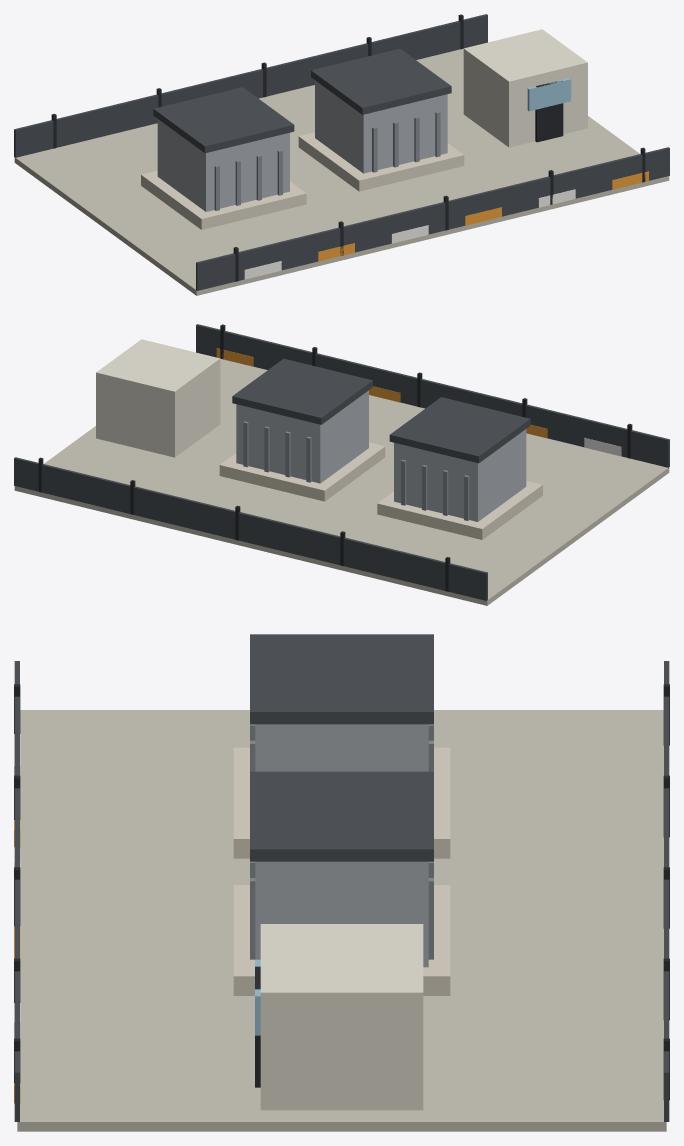
Rendered from building.substation.glb.
3 renders of one model, top to bottom at view 1: azimuth 30°, elevation 25°; view 2: azimuth 150°, elevation 25°; view 3: azimuth 270°, elevation 25°, orthographic. The views are drawn at different scales.
Visible parts, largest first — view 1: building.substation; view 2: building.substation; view 3: building.substation.
Part boxes in pixels (x1,y1,x2,y2): building.substation: (14,14,669,295); building.substation: (14,324,669,605); building.substation: (14,634,669,1131).
Bounding box in the file's own units: 18 × 3.05 × 12.12.
